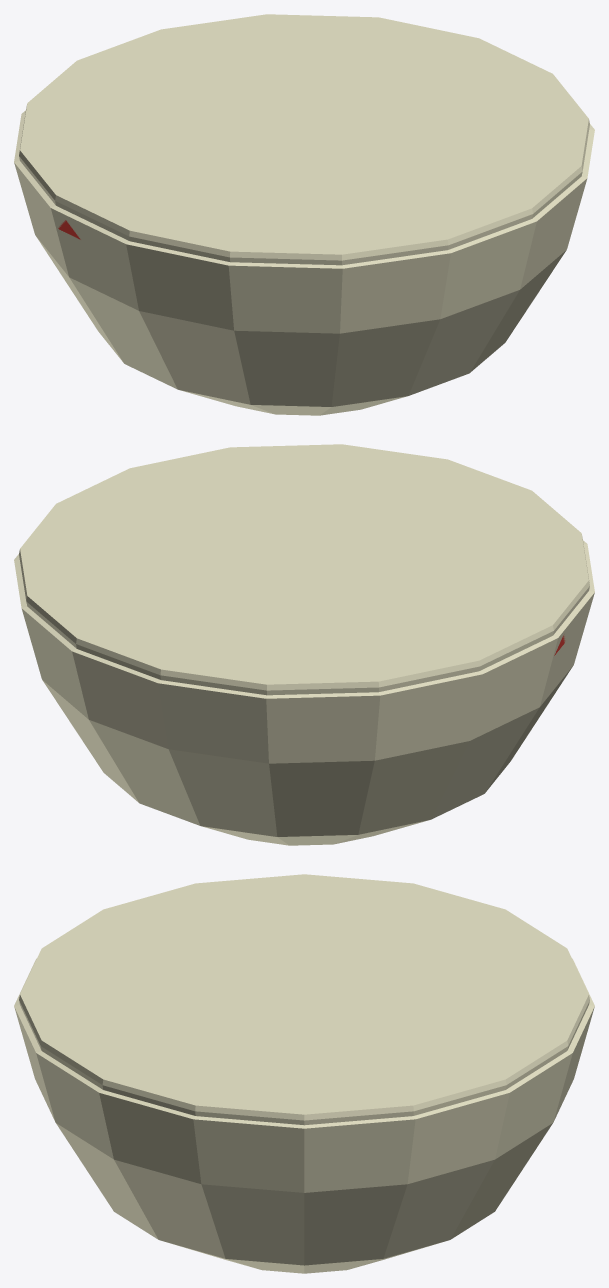
Rendered from EggTimerBottom.fbx.
3 renders of one model, top to bottom at view 1: azimuth 30°, elevation 25°; view 2: azimuth 150°, elevation 25°; view 3: azimuth 270°, elevation 25°, orthographic.
Visible parts, largest first — view 1: EggTimerBottom; view 2: EggTimerBottom; view 3: EggTimerBottom.
Boxes of the visible parts, left/top/right/bottom form: EggTimerBottom: left=14, top=14, right=594, bottom=415; EggTimerBottom: left=14, top=444, right=594, bottom=845; EggTimerBottom: left=14, top=874, right=594, bottom=1273.
Size of the model in its own units: 129 by 57.04 by 129.
Materials: 1 (1 with a texture image).
